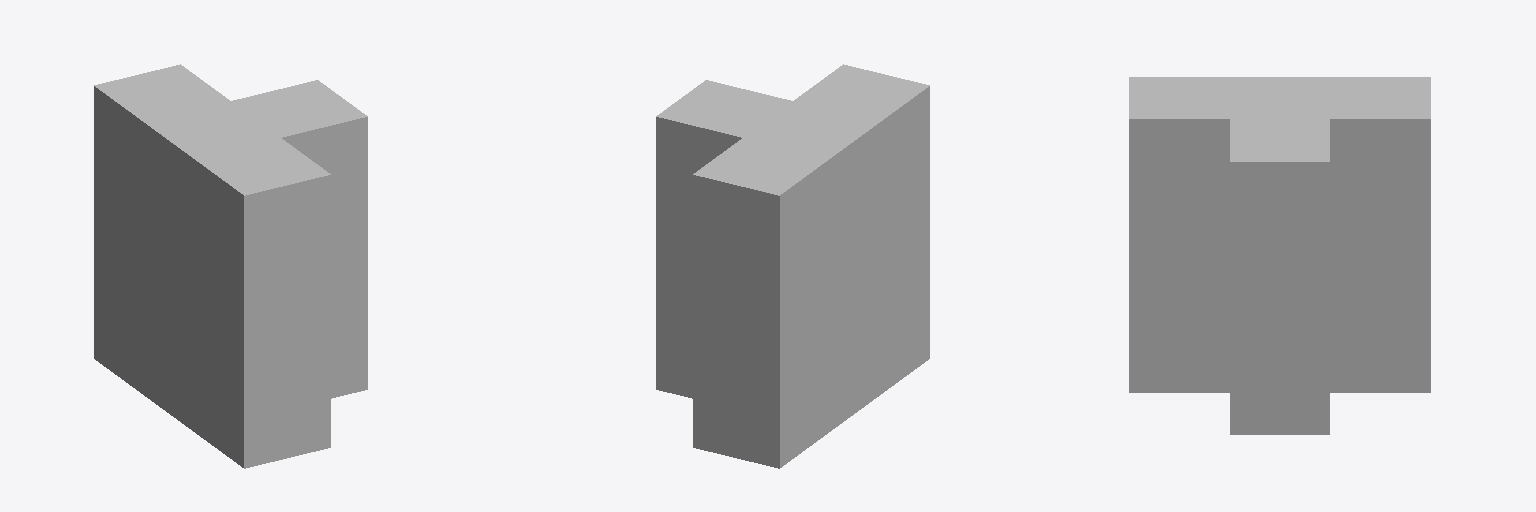
The model's file is glass_pane_side.obj.
3 views of the same model, side by side, from view 1: azimuth 30°, elevation 25°; view 2: azimuth 150°, elevation 25°; view 3: azimuth 270°, elevation 25° (orthographic).
Parts seen in each view (by area): view 1: Cube; view 2: Cube; view 3: Cube.
Part boxes in pixels (x1,y1,x2,y2): Cube: (94, 64, 367, 468); Cube: (656, 64, 929, 468); Cube: (1129, 77, 1430, 434).
Size of the model in its own units: 0.6667 by 1 by 1.